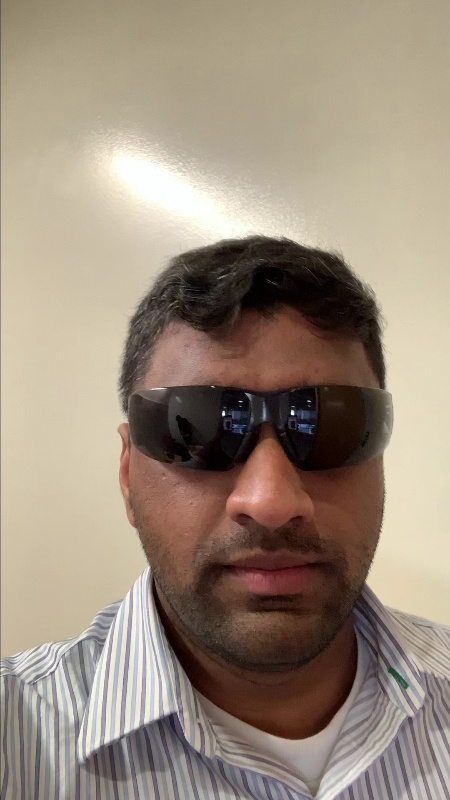glasses: (116, 381, 420, 470)
